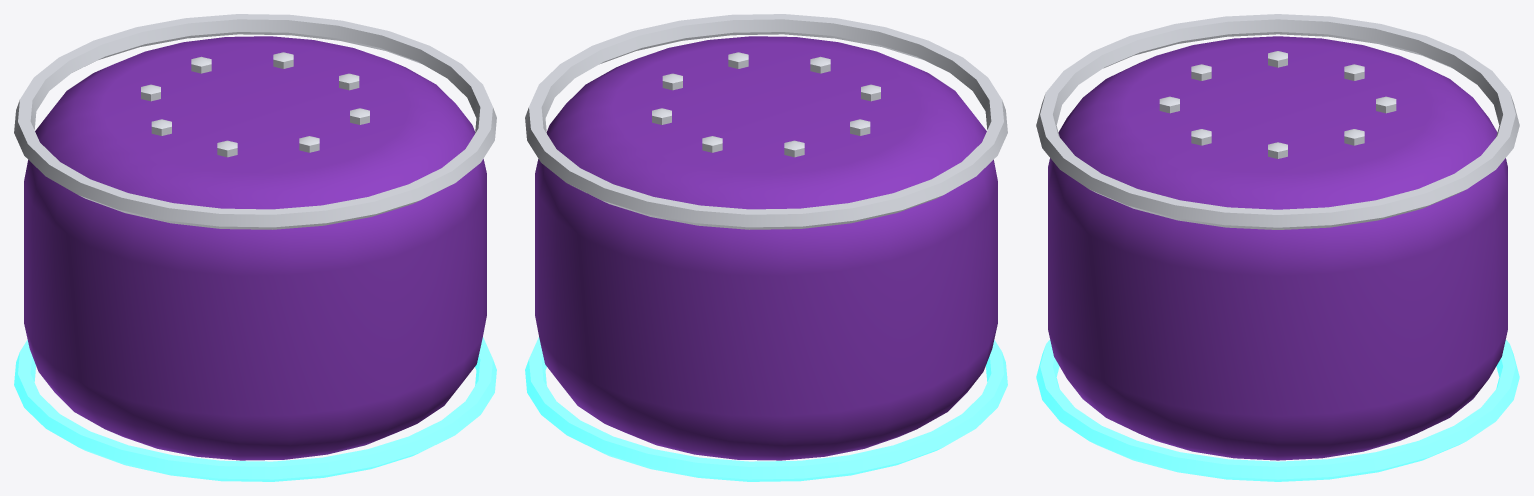
File: pouf_lounge_neon.glb
3 renders of one model, left to right at view 1: azimuth 30°, elevation 25°; view 2: azimuth 150°, elevation 25°; view 3: azimuth 270°, elevation 25°, orthographic.
Parts seen in each view (by area): view 1: pouf_lounge_neon; view 2: pouf_lounge_neon; view 3: pouf_lounge_neon.
Boxes of the visible parts, x1,y1,x2,y2 form: pouf_lounge_neon: (14,14,496,481); pouf_lounge_neon: (525,14,1007,481); pouf_lounge_neon: (1036,14,1519,481).
Bounding box in the file's own units: 0.6266 × 0.415 × 0.6266.
